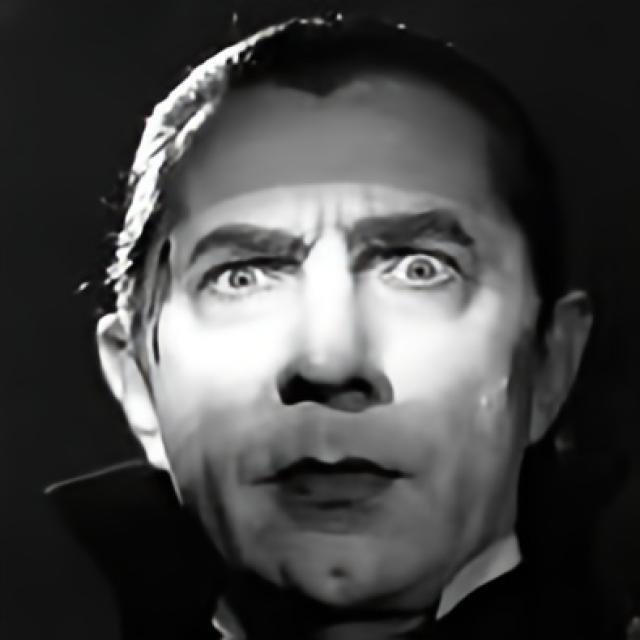fear: (146, 84, 534, 609)
